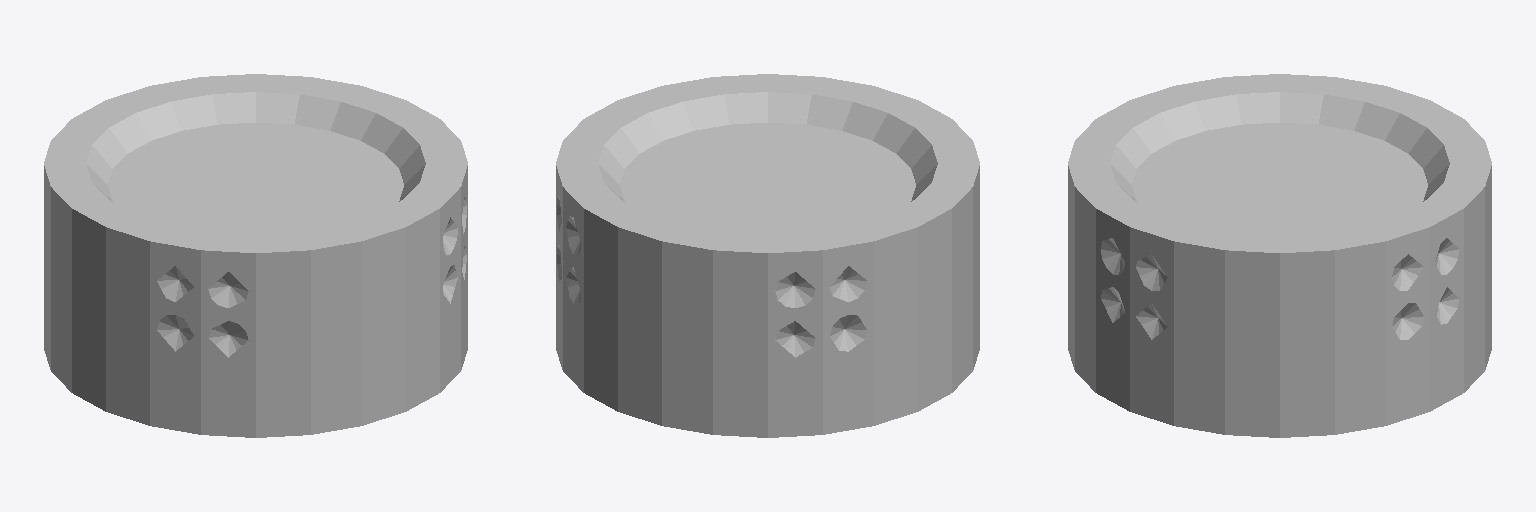
The model's file is Gemini_RCS_A.obj.
The picture shows the model from 3 angles: view 1: azimuth 30°, elevation 25°; view 2: azimuth 150°, elevation 25°; view 3: azimuth 270°, elevation 25°; orthographic projection.
Parts seen in each view (by area): view 1: Gemini_RCS_A; view 2: Gemini_RCS_A; view 3: Gemini_RCS_A.
Boxes of the visible parts, x1=… form: Gemini_RCS_A: x1=44, y1=74, x2=467, y2=437; Gemini_RCS_A: x1=556, y1=74, x2=979, y2=437; Gemini_RCS_A: x1=1068, y1=74, x2=1491, y2=437.
Bounding box in the file's own units: 0.625 × 0.3 × 0.625.